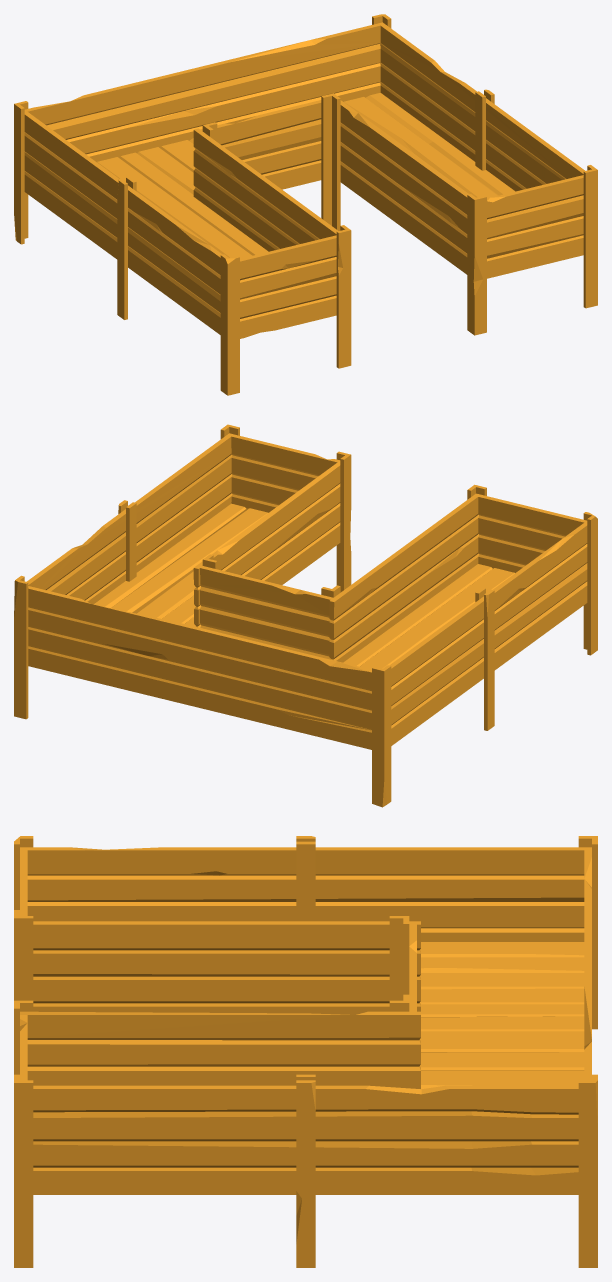
File: SM_Planter_Box_U_3x3m_A_Farm.fbx
The picture shows the model from 3 angles, top to bottom: view 1: azimuth 30°, elevation 25°; view 2: azimuth 150°, elevation 25°; view 3: azimuth 270°, elevation 25°; orthographic projection. The views are drawn at different scales.
Parts seen in each view (by area): view 1: planter-box-u-3x3m-a-farm; view 2: planter-box-u-3x3m-a-farm; view 3: planter-box-u-3x3m-a-farm.
Part boxes in pixels (bbox=[...]): planter-box-u-3x3m-a-farm: bbox=[14, 14, 597, 395]; planter-box-u-3x3m-a-farm: bbox=[14, 424, 597, 807]; planter-box-u-3x3m-a-farm: bbox=[14, 836, 597, 1267].
Size of the model in its own units: 3 by 1.06 by 3.
